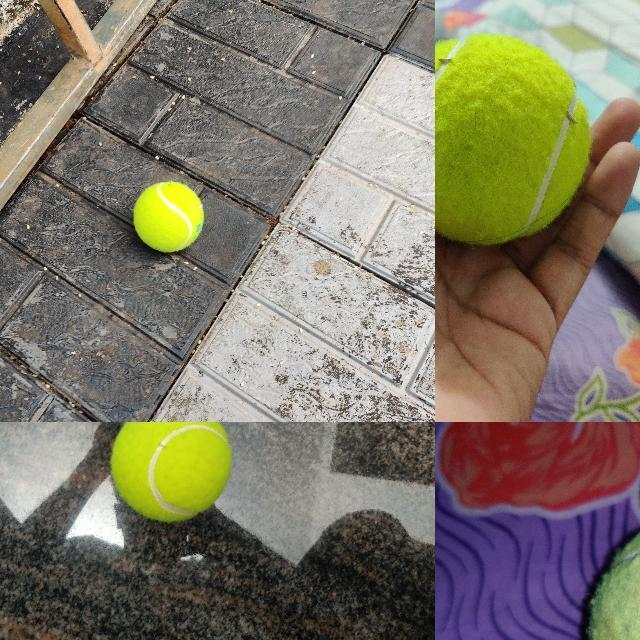tennis-ball: (435, 32, 594, 247), (110, 422, 233, 524), (133, 181, 206, 254)
